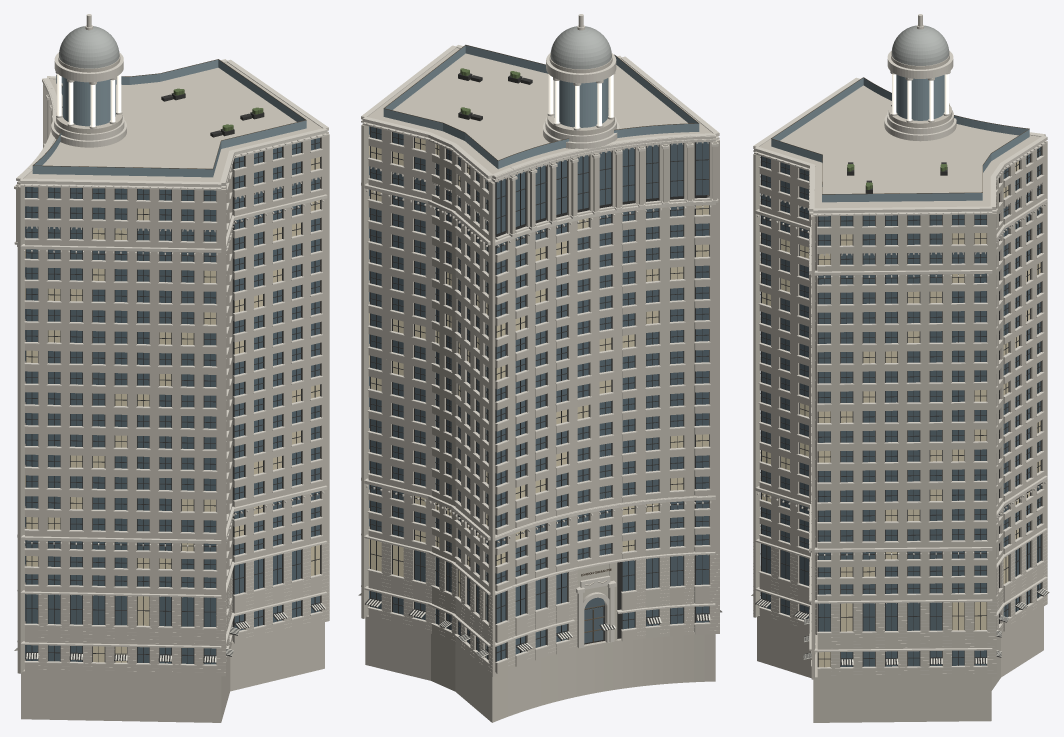
File: london_guarantee.glb
3 views of the same model, side by side, from view 1: azimuth 30°, elevation 25°; view 2: azimuth 150°, elevation 25°; view 3: azimuth 270°, elevation 25° (orthographic). The views are drawn at different scales.
Visible parts, largest first — view 1: Warm Indiana limestone piers, Individual blue grey hotel panes, Pale limestone carved cornices, Dark window sash and recessed backing, Night occupied hotel panes, Clear rooftop wind screens, Weathered grey cupola dome, Night cupola limestone columns and interior strips, Bronze entrance frames and railings, White cafe awning stripes; view 2: Warm Indiana limestone piers, Individual blue grey hotel panes, Pale limestone carved cornices, Dark window sash and recessed backing, Night occupied hotel panes, Clear rooftop wind screens, Weathered grey cupola dome, Night cupola limestone columns and interior strips, Bronze entrance frames and railings, White cafe awning stripes; view 3: Warm Indiana limestone piers, Individual blue grey hotel panes, Pale limestone carved cornices, Dark window sash and recessed backing, Night occupied hotel panes, Clear rooftop wind screens, Weathered grey cupola dome, Night cupola limestone columns and interior strips, White cafe awning stripes, Bronze entrance frames and railings.
Part boxes in pixels (left/top/right/bottom): Warm Indiana limestone piers: left=16, top=53, right=329, bottom=722; Individual blue grey hotel panes: left=25, top=138, right=319, bottom=664; Pale limestone carved cornices: left=14, top=14, right=329, bottom=672; Dark window sash and recessed backing: left=15, top=93, right=324, bottom=663; Night occupied hotel panes: left=25, top=157, right=319, bottom=662; Clear rooftop wind screens: left=32, top=59, right=306, bottom=177; Weathered grey cupola dome: left=59, top=26, right=119, bottom=68; Night cupola limestone columns and interior strips: left=57, top=73, right=121, bottom=126; Bronze entrance frames and railings: left=32, top=59, right=306, bottom=169; White cafe awning stripes: left=14, top=603, right=325, bottom=662; Warm Indiana limestone piers: left=361, top=48, right=719, bottom=722; Individual blue grey hotel panes: left=369, top=126, right=708, bottom=661; Pale limestone carved cornices: left=361, top=14, right=719, bottom=672; Dark window sash and recessed backing: left=359, top=73, right=721, bottom=661; Night occupied hotel panes: left=369, top=137, right=708, bottom=597; Clear rooftop wind screens: left=383, top=45, right=699, bottom=168; Weathered grey cupola dome: left=550, top=26, right=611, bottom=69; Night cupola limestone columns and interior strips: left=548, top=74, right=613, bottom=128; Bronze entrance frames and railings: left=383, top=44, right=698, bottom=642; White cafe awning stripes: left=358, top=593, right=721, bottom=657; Warm Indiana limestone piers: left=753, top=52, right=1047, bottom=722; Individual blue grey hotel panes: left=760, top=147, right=1040, bottom=666; Pale limestone carved cornices: left=753, top=14, right=1047, bottom=675; Dark window sash and recessed backing: left=752, top=146, right=1048, bottom=667; Night occupied hotel panes: left=760, top=161, right=1040, bottom=667; Clear rooftop wind screens: left=771, top=74, right=1029, bottom=202; Weathered grey cupola dome: left=891, top=25, right=949, bottom=65; Night cupola limestone columns and interior strips: left=892, top=74, right=948, bottom=120; White cafe awning stripes: left=751, top=588, right=1049, bottom=665; Bronze entrance frames and railings: left=771, top=77, right=1029, bottom=194.
Size of the model in its own units: 51.84 by 111 by 48.08.
